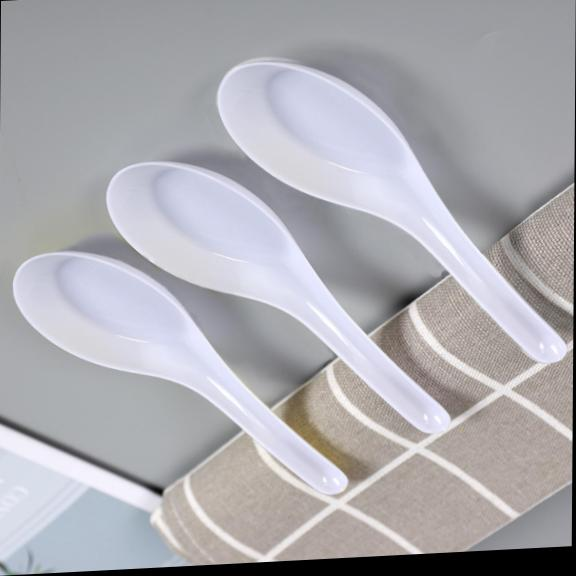Plastik: (217, 61, 565, 362), (106, 161, 448, 432), (13, 250, 345, 493)
